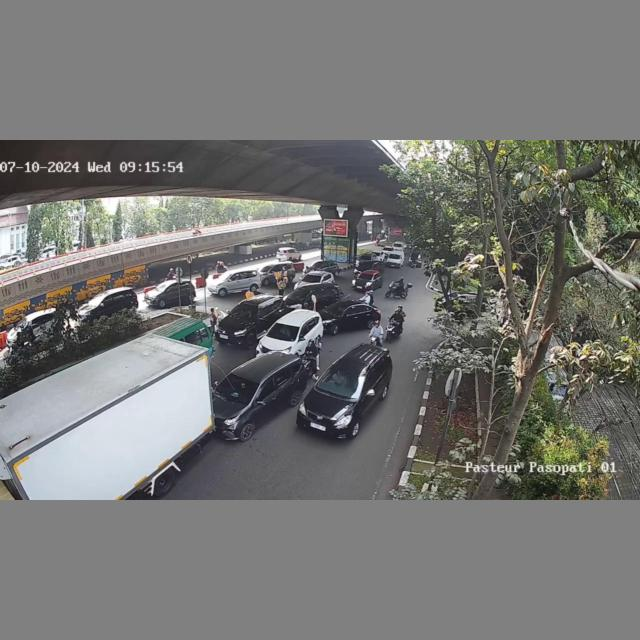windshield: (321, 363, 368, 398), (215, 371, 261, 404), (267, 322, 300, 343), (230, 302, 259, 321)
